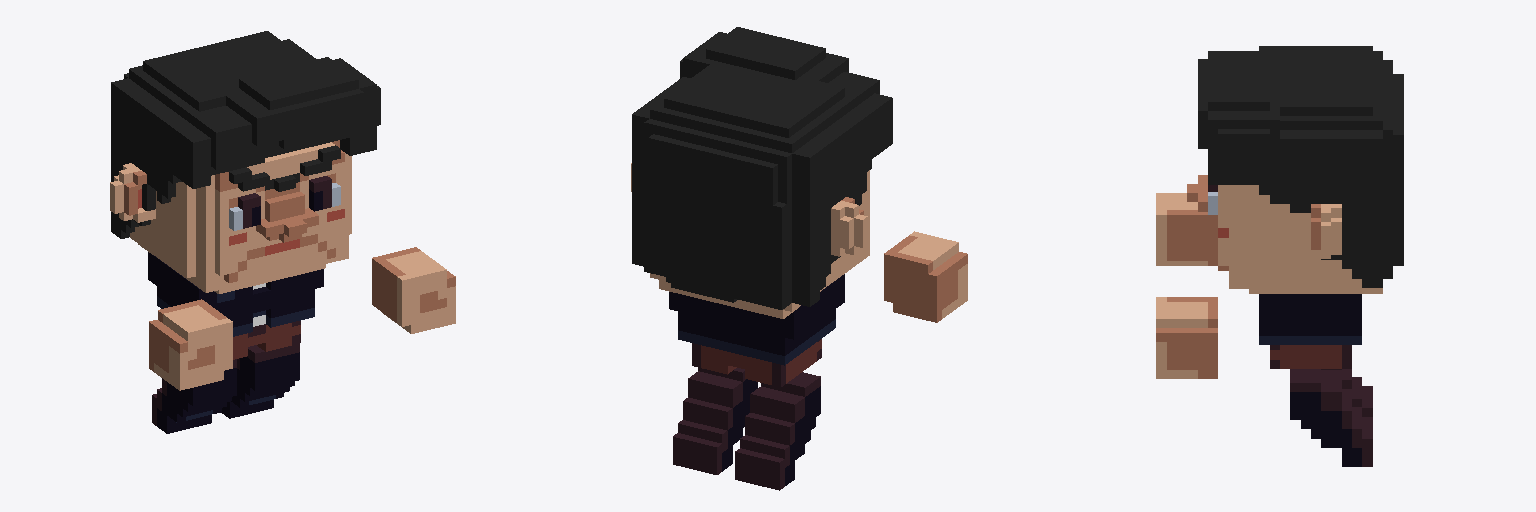
3 views of the same model, side by side, from view 1: azimuth 30°, elevation 25°; view 2: azimuth 150°, elevation 25°; view 3: azimuth 270°, elevation 25° (orthographic).
Parts seen in each view (by area): view 1: object 1; view 2: object 1; view 3: object 1.
Boxes of the visible parts, box(x1,y1,x2,y2) form: object 1: box(110, 31, 455, 433); object 1: box(631, 27, 967, 490); object 1: box(1156, 46, 1403, 466).
Bounding box in the file's own units: 3.1 × 4 × 2.4.
Materials: 1 (1 with a texture image).